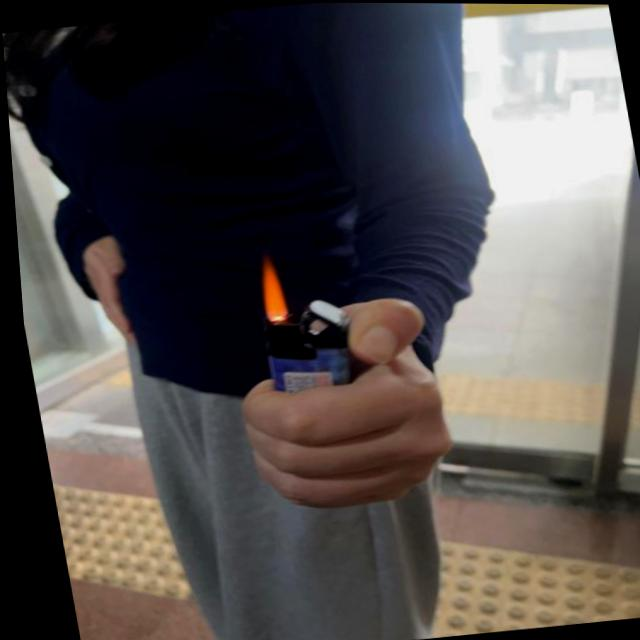helmet: (248, 250, 286, 320)
